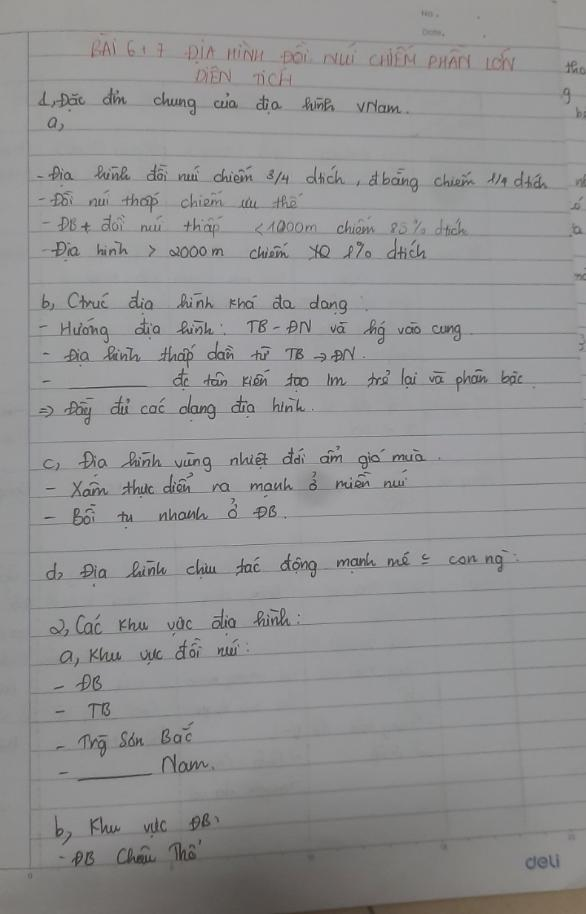text: (41, 546, 523, 593), (85, 28, 518, 78), (33, 160, 554, 191), (41, 465, 411, 504), (39, 316, 466, 346), (39, 211, 473, 239), (34, 84, 410, 116), (38, 446, 424, 476), (171, 364, 526, 395), (39, 239, 429, 266), (38, 286, 355, 319), (37, 392, 305, 430), (31, 340, 358, 371), (46, 604, 301, 641), (40, 493, 276, 531), (55, 635, 250, 671), (34, 189, 308, 213), (52, 809, 220, 848), (51, 719, 199, 760), (58, 837, 204, 872), (193, 64, 296, 90), (46, 672, 105, 695), (53, 700, 114, 721), (158, 754, 214, 776), (523, 850, 564, 876), (45, 114, 68, 134), (419, 26, 449, 39), (421, 6, 438, 20)
